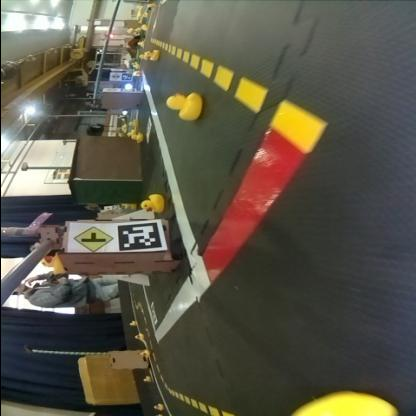Duckie: (166, 95, 200, 121), (140, 197, 162, 214), (130, 134, 142, 144)
Intersection sign: (68, 226, 108, 252)
QR code: (116, 222, 161, 252), (144, 118, 152, 144)
